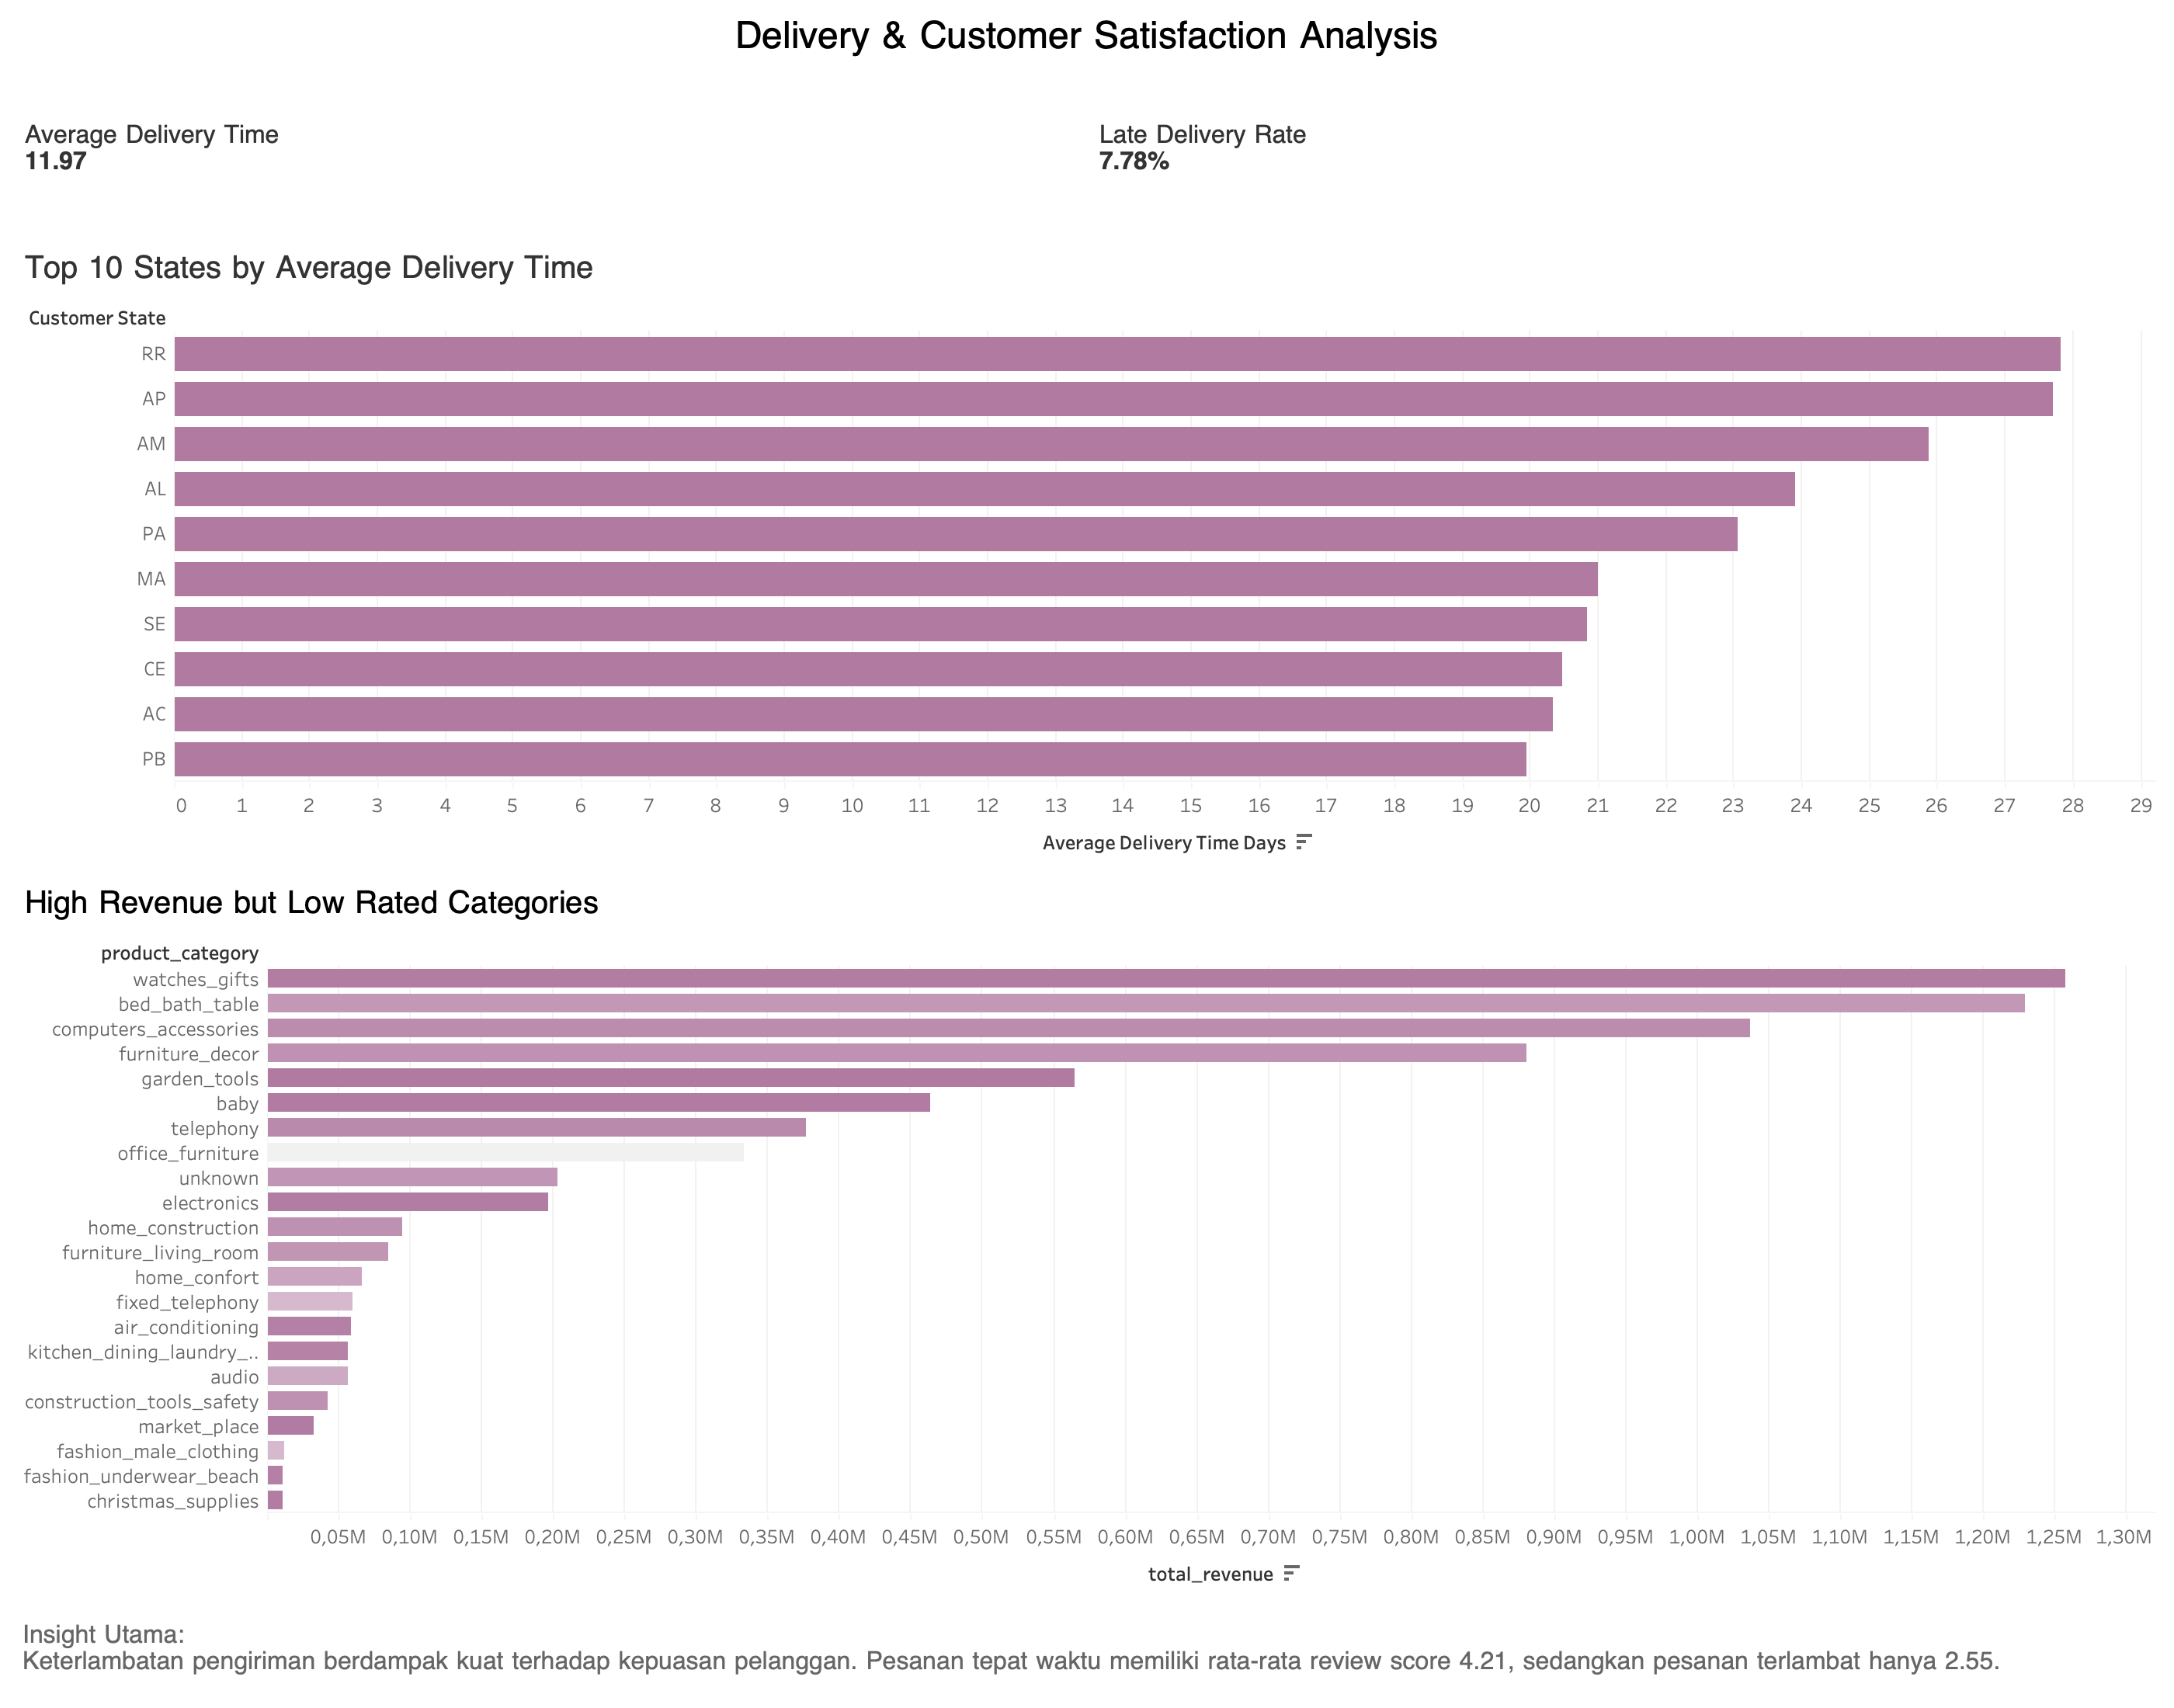

Layout of this report page (visuals, bound fields, positions):
{"tool":"tableau","page":{"name":"Dashboard 2","canvas":[1400,1100],"ordinal":1},"visuals":[{"type":"title","box":[8,8,1384,33]},{"type":"worksheet","title":"Sheet 12","mark":"Automatic","box":[8,41,692,112]},{"type":"worksheet","title":"Sheet 13","mark":"Automatic","box":[700,41,692,112]},{"type":"worksheet","title":"Sheet 6","mark":"Bar","rows":["customer_state"],"cols":["avg_delivery_time_days"],"box":[8,153,1384,409]},{"type":"worksheet","title":"Sheet 7","mark":"Bar","rows":["product_category"],"cols":["total_revenue"],"box":[8,562,1384,471]},{"type":"text","box":[8,1033,1384,59]}]}

Visuals, with their boxes in screenshot pixels (x1, y1, x2, y2), scaled from the page's 1400x1100 canvas onto the 2174x1708 screenshot:
title: l=12, t=12, r=2162, b=64
"Sheet 12" worksheet: l=12, t=64, r=1087, b=238
"Sheet 13" worksheet: l=1087, t=64, r=2162, b=238
"Sheet 6" worksheet (Bar marks): l=12, t=238, r=2162, b=873
"Sheet 7" worksheet (Bar marks): l=12, t=873, r=2162, b=1604
text: l=12, t=1604, r=2162, b=1696
